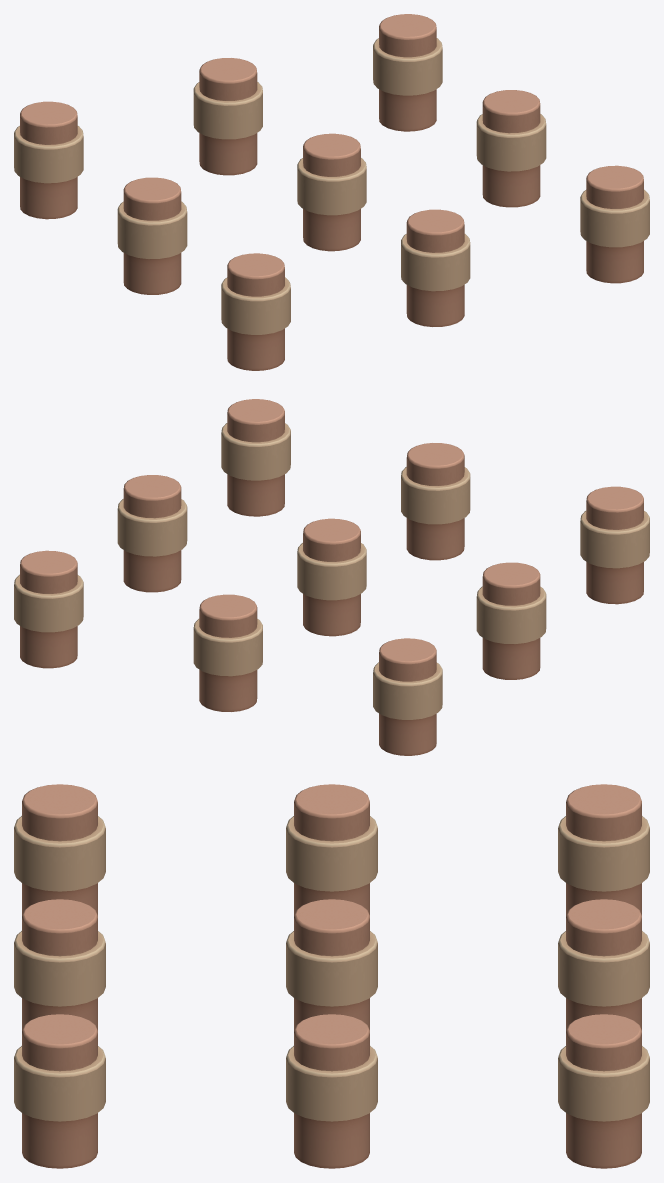
File: Props.fbx
3 renders of one model, top to bottom at view 1: azimuth 30°, elevation 25°; view 2: azimuth 150°, elevation 25°; view 3: azimuth 270°, elevation 25°, orthographic. The views are drawn at different scales.
Parts seen in each view (by area): view 1: Cylinder-2 (6), Cylinder-2 (3), Cylinder-2 (2), Cylinder-2 (1), Cylinder-2 (7), Cylinder-2, Cylinder-2 (4), Cylinder-2 (8), Cylinder-2 (5); view 2: Cylinder-2 (6), Cylinder-2 (3), Cylinder-2 (1), Cylinder-2 (2), Cylinder-2 (8), Cylinder-2, Cylinder-2 (5), Cylinder-2 (7), Cylinder-2 (4); view 3: Cylinder-2 (6), Cylinder-2 (7), Cylinder-2 (8), Cylinder-2, Cylinder-2 (1), Cylinder-2 (2), Cylinder-2 (4), Cylinder-2 (5), Cylinder-2 (3).
Boxes of the visible parts, <box> form: Cylinder-2 (6): <box>476,90,546,207</box>; Cylinder-2 (3): <box>117,177,187,294</box>; Cylinder-2 (2): <box>193,58,262,175</box>; Cylinder-2 (1): <box>401,209,470,326</box>; Cylinder-2 (7): <box>580,165,649,283</box>; Cylinder-2: <box>297,133,366,251</box>; Cylinder-2 (4): <box>221,253,290,370</box>; Cylinder-2 (8): <box>373,14,442,131</box>; Cylinder-2 (5): <box>14,101,83,219</box>; Cylinder-2 (6): <box>117,475,187,592</box>; Cylinder-2 (3): <box>476,562,546,679</box>; Cylinder-2 (1): <box>401,443,470,560</box>; Cylinder-2 (2): <box>193,594,262,711</box>; Cylinder-2 (8): <box>14,550,83,668</box>; Cylinder-2: <box>297,518,366,636</box>; Cylinder-2 (5): <box>373,638,442,755</box>; Cylinder-2 (7): <box>221,399,290,516</box>; Cylinder-2 (4): <box>580,486,649,604</box>; Cylinder-2 (6): <box>286,1014,377,1168</box>; Cylinder-2 (7): <box>14,1014,105,1168</box>; Cylinder-2 (8): <box>558,1014,649,1168</box>; Cylinder-2: <box>286,899,377,1030</box>; Cylinder-2 (1): <box>14,899,105,1031</box>; Cylinder-2 (2): <box>558,899,649,1031</box>; Cylinder-2 (4): <box>14,784,105,916</box>; Cylinder-2 (5): <box>558,784,649,916</box>; Cylinder-2 (3): <box>286,784,377,915</box>.
Size of the model in its own units: 23.38 by 5 by 23.38.
Materials: 1 (1 with a texture image).
